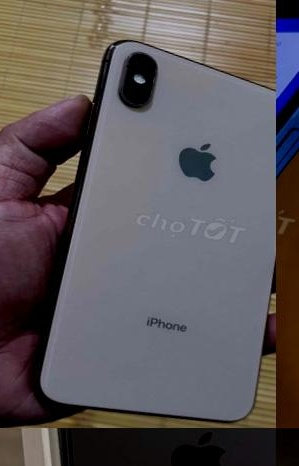scratch: (276, 428, 299, 451)
